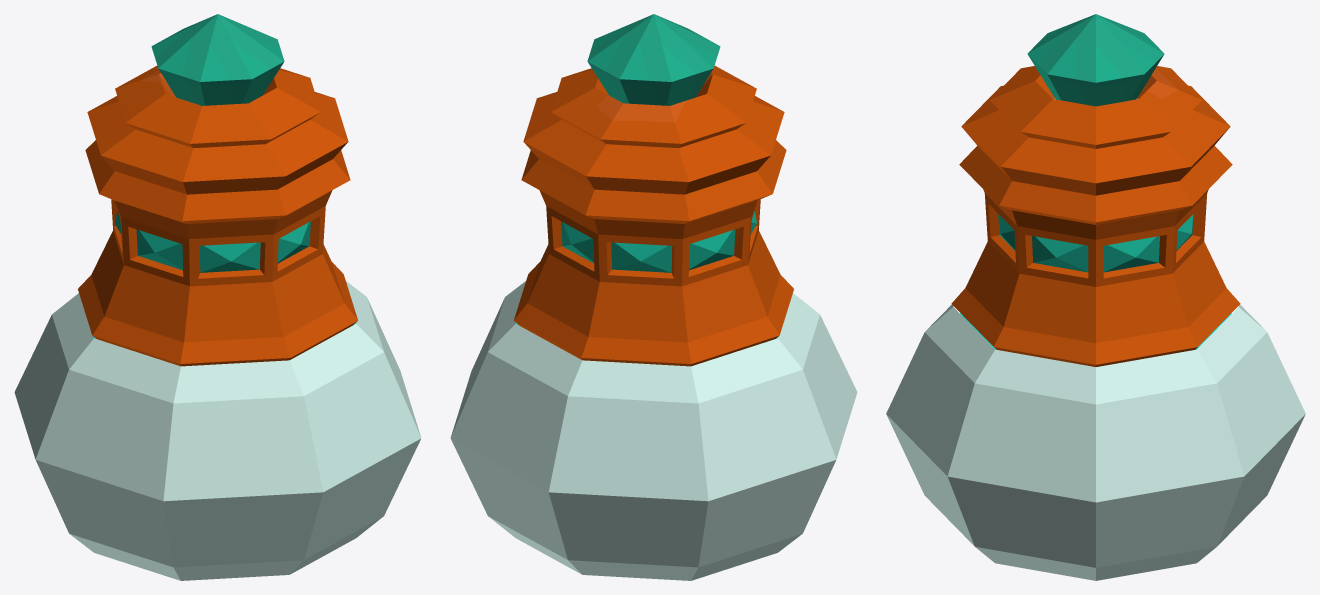
Rendered from bulb.glb.
The picture shows the model from 3 angles, left to right: view 1: azimuth 30°, elevation 25°; view 2: azimuth 150°, elevation 25°; view 3: azimuth 270°, elevation 25°; orthographic projection.
Parts seen in each view (by area): view 1: vidrio, tapa; view 2: vidrio, tapa; view 3: vidrio, tapa.
Part boxes in pixels (x1,y1,x2,y2): vidrio: (14, 281, 421, 580); tapa: (78, 14, 357, 366); vidrio: (450, 281, 857, 580); tapa: (514, 14, 793, 366); vidrio: (886, 304, 1305, 580); tapa: (951, 14, 1240, 366).
Size of the model in its own units: 225 by 300 by 225.
4 materials, 4 textured.
